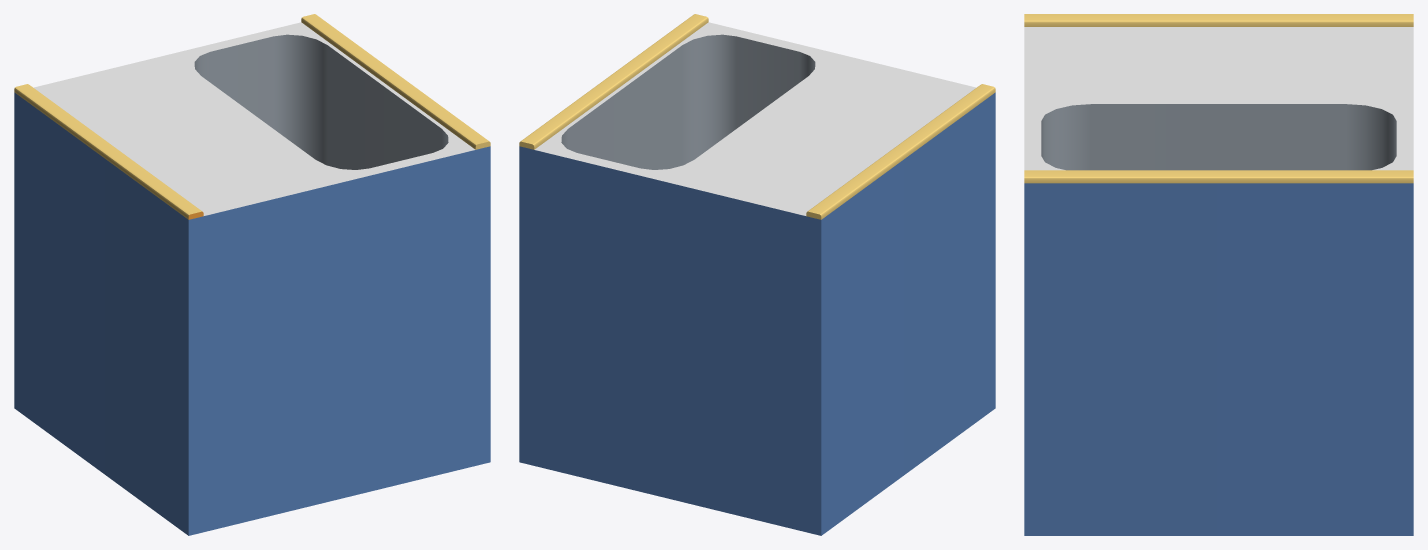
3 views of the same model, side by side, from view 1: azimuth 30°, elevation 25°; view 2: azimuth 150°, elevation 25°; view 3: azimuth 270°, elevation 25° (orthographic). The views are drawn at different scales.
Visible parts, largest first — view 1: e3; view 2: e3; view 3: e3.
Part boxes in pixels (<box>): e3: <box>14,14,490,535</box>; e3: <box>519,14,995,535</box>; e3: <box>1024,14,1413,535</box>.
Bounding box in the file's own units: 700 × 711 × 700.
1 material, 1 textured.
